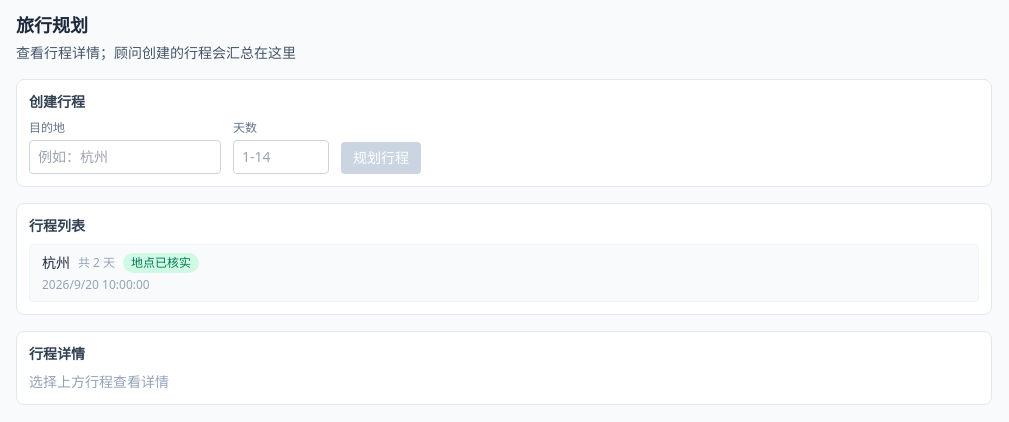
Test case: TripsPage › hides trip existence with the same message for missing and forbidden details
Click the text "杭州" at (56, 263), box [42,253,70,273]
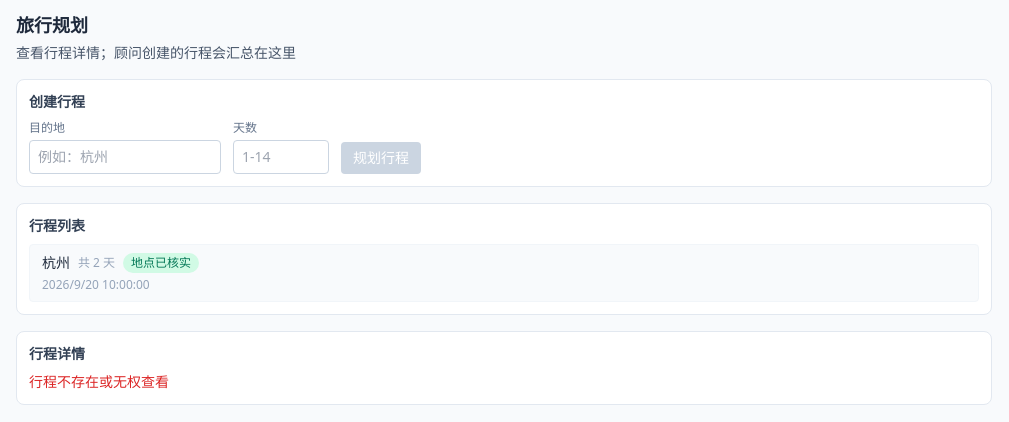
Check: the text "行程不存在或无权查看" is shown, box [29,372,169,391]
